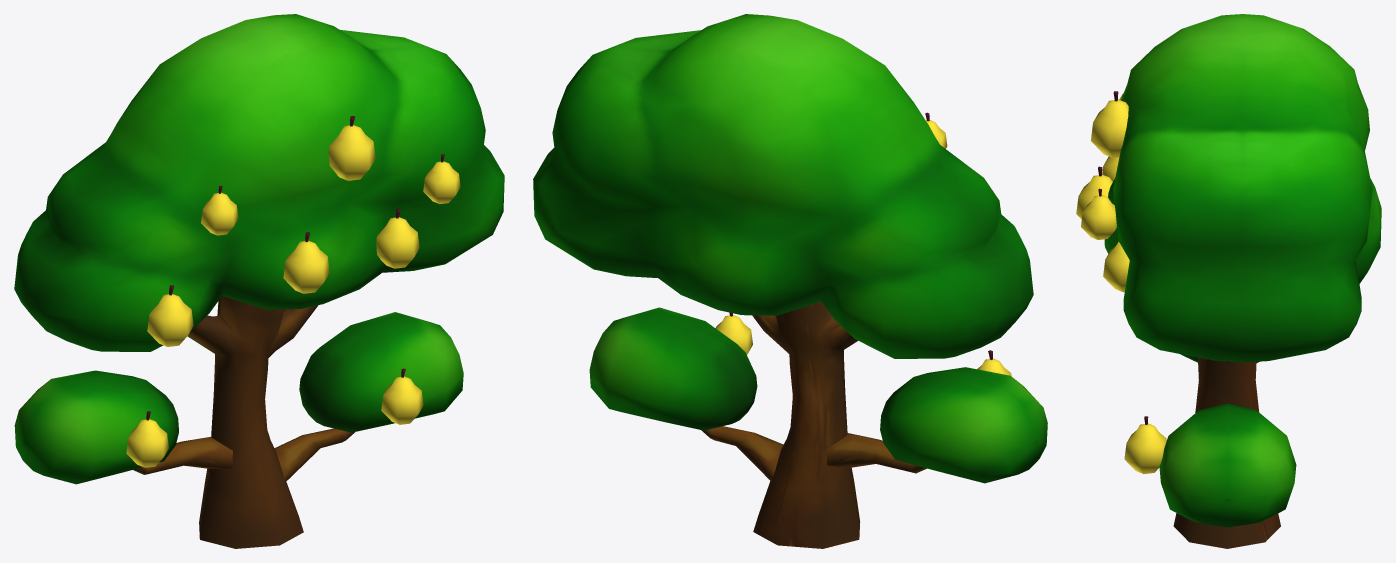
Rendered from lishu.fbx.
3 renders of one model, left to right at view 1: azimuth 30°, elevation 25°; view 2: azimuth 150°, elevation 25°; view 3: azimuth 270°, elevation 25°, orthographic. The views are drawn at different scales.
Parts seen in each view (by area): view 1: lishu, li4, li, li2, li7, li5, li6, li3, li1; view 2: lishu, li6; view 3: lishu, li4, li6, li1, li7, li.
Part boxes in pixels (<box>): lishu: <box>14,14,504,548</box>; li4: <box>328,116,375,180</box>; li: <box>283,232,329,293</box>; li2: <box>147,285,193,346</box>; li7: <box>376,209,419,268</box>; li5: <box>126,411,168,467</box>; li6: <box>381,368,423,424</box>; li3: <box>201,185,238,235</box>; li1: <box>423,154,460,203</box>; lishu: <box>533,14,1047,548</box>; li6: <box>715,312,752,354</box>; lishu: <box>1104,14,1381,548</box>; li4: <box>1091,91,1128,157</box>; li6: <box>1124,416,1166,473</box>; li1: <box>1081,188,1116,239</box>; li7: <box>1103,241,1129,292</box>; li: <box>1076,166,1112,219</box>.
Size of the model in its own units: 282 by 279 by 154.
